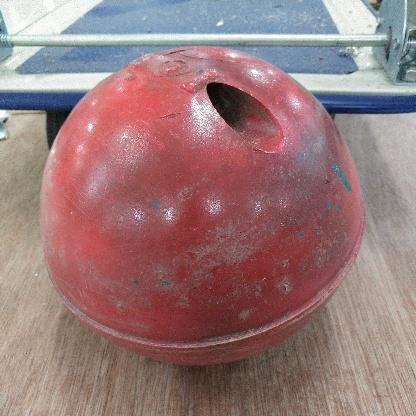red_buoy: (38, 42, 364, 375)
